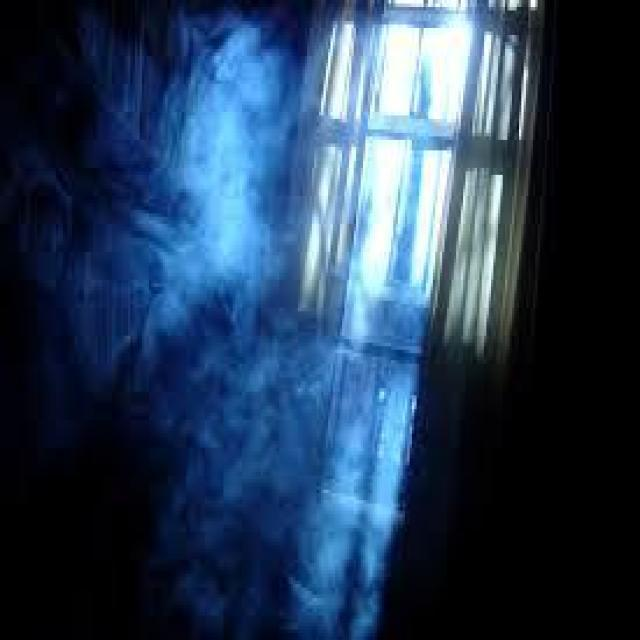Smoke: (24, 22, 414, 636)
